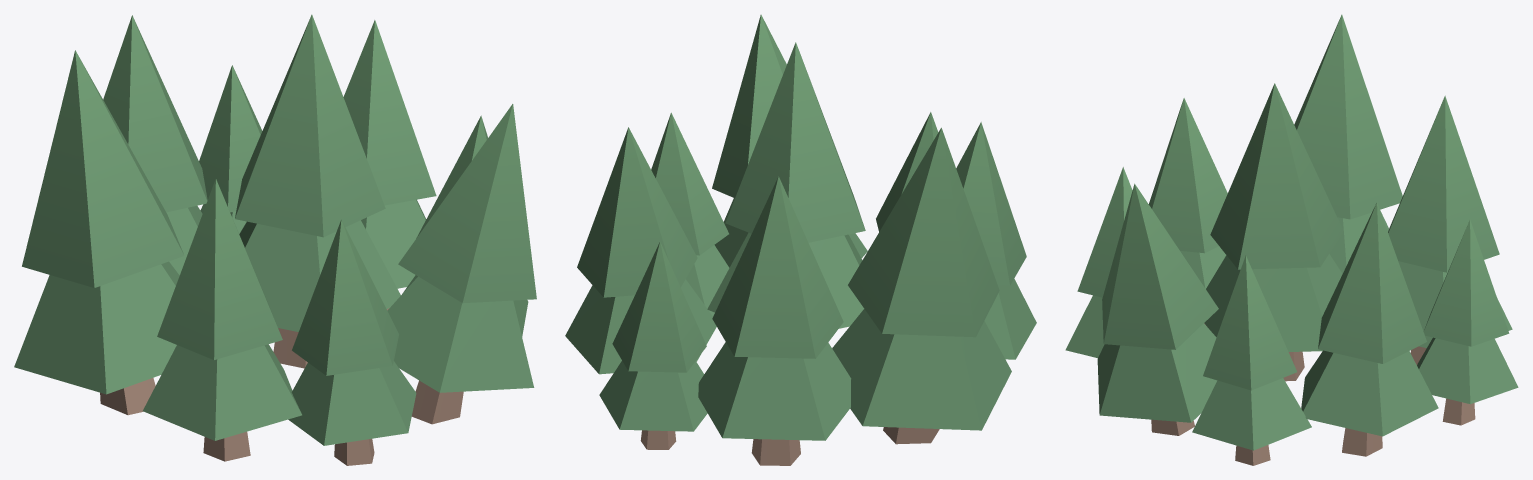
Rendered from trees_pine_small.gltf.
The picture shows the model from 3 angles, left to right: view 1: azimuth 30°, elevation 25°; view 2: azimuth 150°, elevation 25°; view 3: azimuth 270°, elevation 25°; orthographic projection. The views are drawn at different scales.
Visible parts, largest first — view 1: trees_pine_small; view 2: trees_pine_small; view 3: trees_pine_small.
Boxes of the visible parts, x1,y1,x2,y2 form: trees_pine_small: (14,14,536,465); trees_pine_small: (565,14,1036,465); trees_pine_small: (1065,14,1518,465).
Size of the model in its own units: 1.43 by 1.11 by 1.44.
